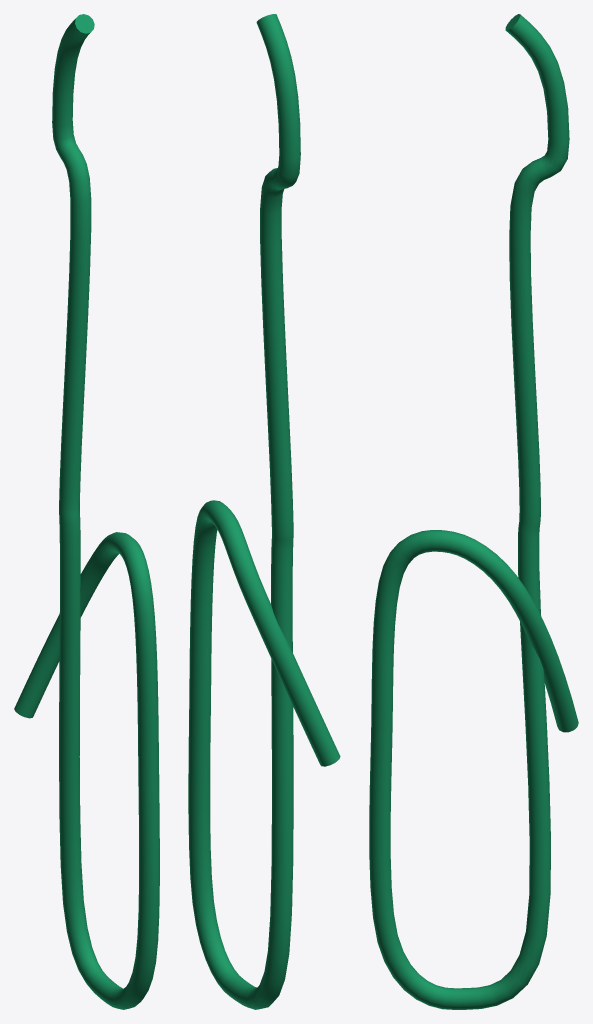
File: Paperclip1_bent.FBX
3 views of the same model, side by side, from view 1: azimuth 30°, elevation 25°; view 2: azimuth 210°, elevation 25°; view 3: azimuth 270°, elevation 25° (orthographic). The views are drawn at different scales.
Visible parts, largest first — view 1: Paperclip_bent; view 2: Paperclip_bent; view 3: Paperclip_bent.
Boxes of the visible parts, <box> form: Paperclip_bent: <box>14,14,159,1009</box>; Paperclip_bent: <box>188,14,340,1009</box>; Paperclip_bent: <box>369,14,578,1009</box>.
Size of the model in its own units: 1.05 by 14.44 by 2.76.
